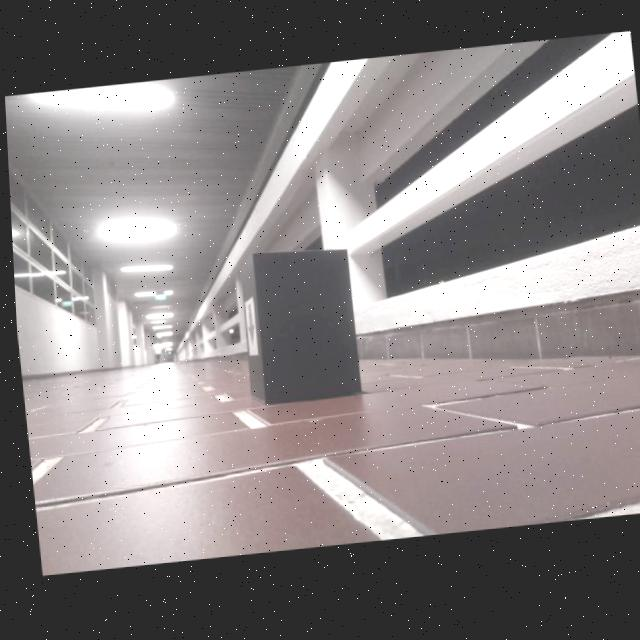DOWN: (244, 306, 252, 350)
